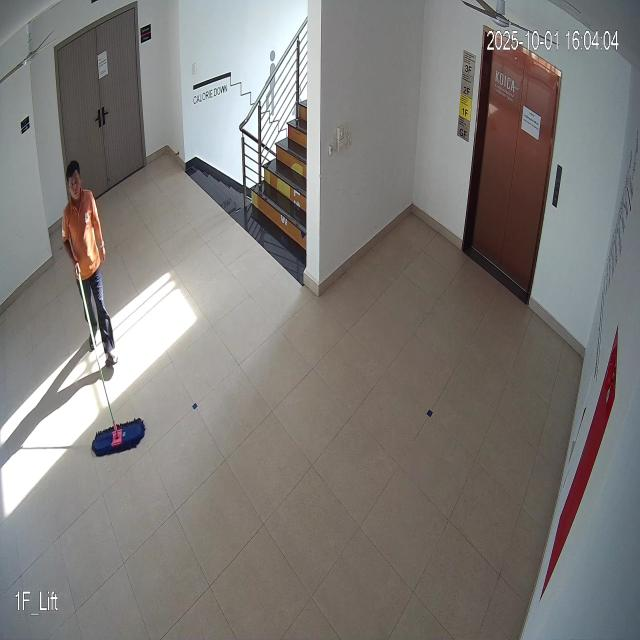face: (63, 157, 85, 207)
